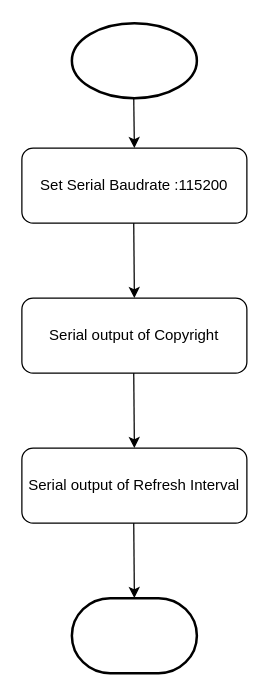
Some shapes in this 269 by 695 pixel diagram are drawn without their labels. The shapes that lost their labels are listed below. From the top down, each one's box as (x1, y1, x2, y2) in pixels, then its label:
(70, 21, 198, 99): Start
(70, 596, 198, 674): End
